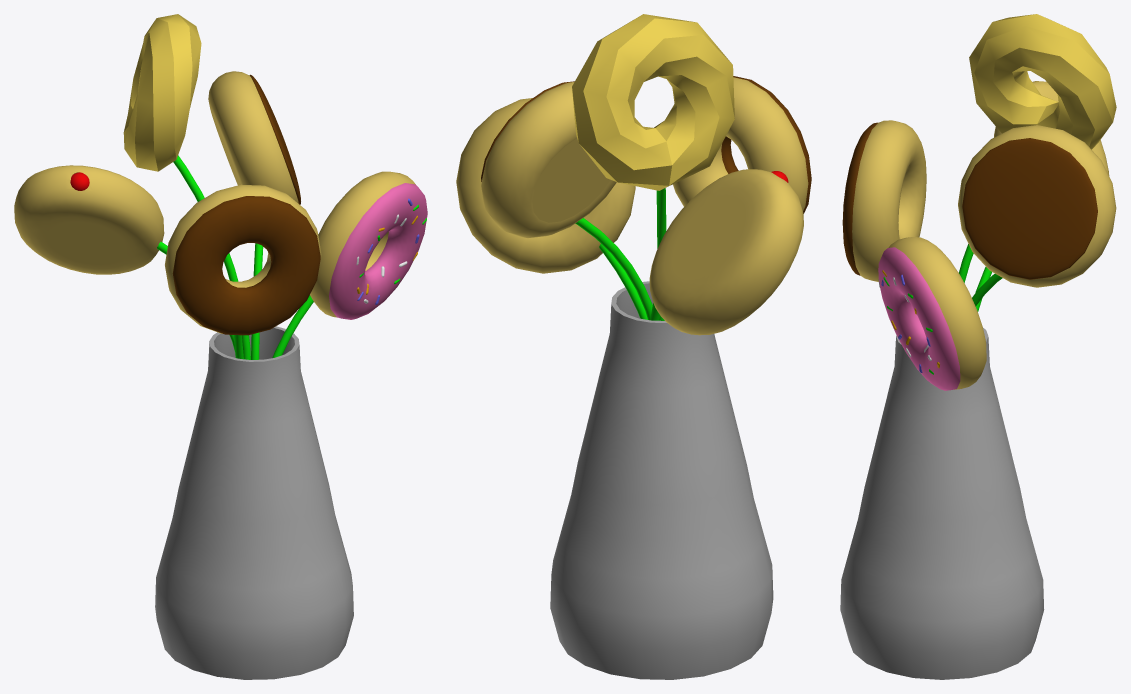
Rendered from Bouquet.fbx.
3 renders of one model, left to right at view 1: azimuth 30°, elevation 25°; view 2: azimuth 150°, elevation 25°; view 3: azimuth 270°, elevation 25°, orthographic. The views are drawn at different scales.
Visible parts, largest first — view 1: polySurface1, chocolate_frosting, polySurface2, Cruller, pTorus5, Boston_creme, Strawberry_sprinkled, Chocolate_frosted, Cstem, pSphere22; view 2: polySurface1, Cruller, polySurface2, Strawberry_sprinkled, Boston_creme, Chocolate_frosted, pCylinder3, BCstem, chocolate_frosting, SSstem; view 3: polySurface1, pSphere22, Cruller, Chocolate_frosted, pTorus5, Boston_creme, Strawberry_sprinkled, chocolate_frosting, polySurface2.
Part boxes in pixels (<box>): polySurface1: <box>155,326,353,679</box>; chocolate_frosting: <box>172,196,320,335</box>; polySurface2: <box>14,165,164,274</box>; Cruller: <box>123,14,201,171</box>; pTorus5: <box>329,183,427,319</box>; Boston_creme: <box>208,71,298,203</box>; Strawberry_sprinkled: <box>310,171,415,317</box>; Chocolate_frosted: <box>165,184,321,333</box>; Cstem: <box>173,155,250,359</box>; pSphere22: <box>249,74,300,204</box>; polySurface1: <box>550,281,773,679</box>; Cruller: <box>572,14,734,190</box>; polySurface2: <box>649,169,803,335</box>; Strawberry_sprinkled: <box>456,98,635,273</box>; Boston_creme: <box>481,82,616,237</box>; Chocolate_frosted: <box>673,77,808,210</box>; pCylinder3: <box>532,138,610,222</box>; BCstem: <box>575,218,652,320</box>; chocolate_frosting: <box>721,76,811,213</box>; SSstem: <box>599,244,647,319</box>; polySurface1: <box>840,328,1044,679</box>; pSphere22: <box>962,138,1097,279</box>; Cruller: <box>969,14,1116,149</box>; Chocolate_frosted: <box>852,120,926,281</box>; pTorus5: <box>878,247,960,390</box>; Boston_creme: <box>958,125,1116,287</box>; Strawberry_sprinkled: <box>888,237,986,389</box>; chocolate_frosting: <box>842,122,877,275</box>; polySurface2: <box>994,81,1109,175</box>.
Size of the model in its own units: 4.92 by 7.97 by 3.29.
